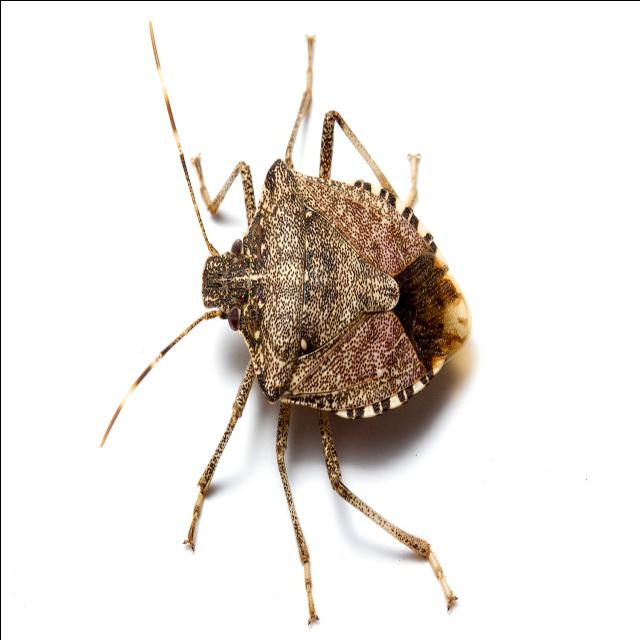stink_bug: (84, 15, 499, 618)
